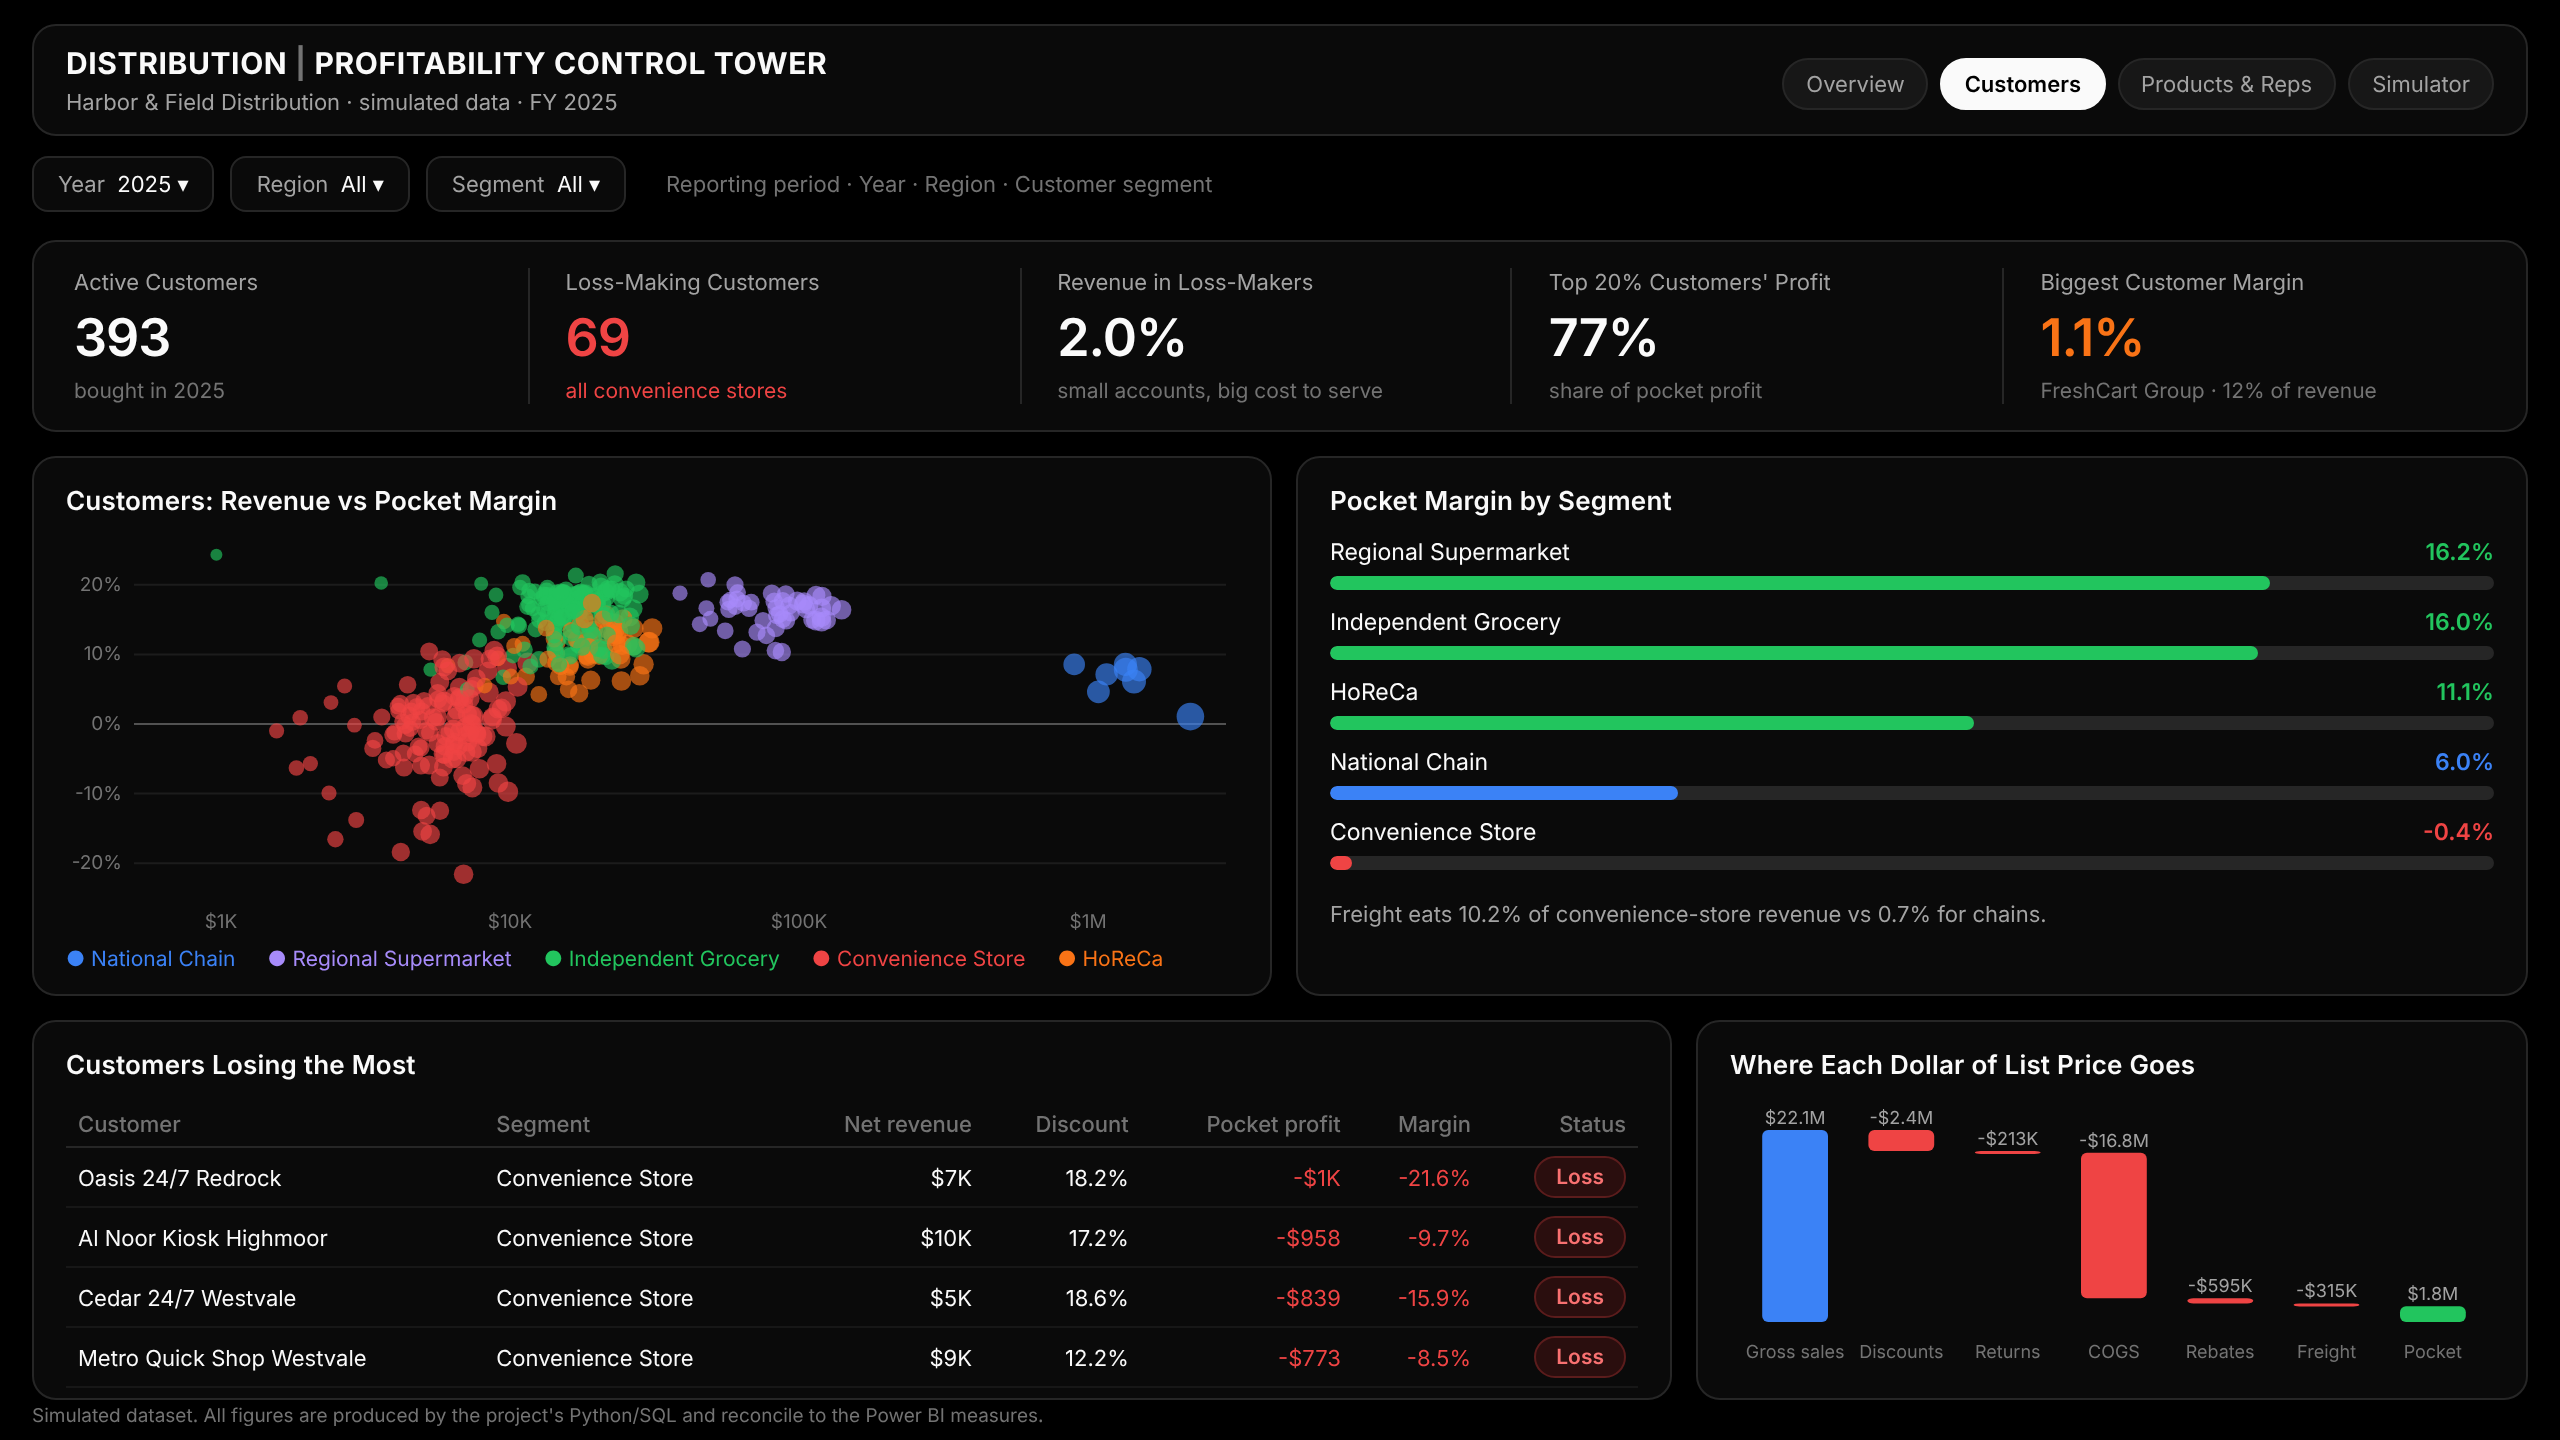

What the dashboard file says about the page in this screenshot:
{"tool":"powerbi","page":{"name":"Customers","canvas":[1280,720],"ordinal":1},"visuals":[{"type":"shape","box":[11.5,7.2,1252.6,91.8],"z":0,"group":"g1"},{"type":"shape","title":"Pocket Margin by Segment","box":[10,103.3,1252.6,120.5],"z":0},{"type":"cardVisual","fields":{"Data":["_Measures.Active Customers","_Measures.Loss-Making Customers","_Measures.Revenue in Loss-Making Customers %","_Measures.Top 20% Share of Pocket Profit","_Measures.Biggest Customer Pocket Margin"]},"box":[16,120,1248,98.8],"z":1000},{"type":"textbox","box":[23,21.3,522.6,30.1],"z":2000,"group":"g1"},{"type":"scatterChart","title":"Customers: Revenue vs Pocket Margin","fields":{"Category":["dim_customer.customer_name"],"Series":["dim_customer.segment"],"Size":["_Measures.Orders"],"X":["_Measures.Net Revenue"],"Y":["_Measures.Pocket Margin %"]},"box":[15.5,226.3,625.2,269.4],"z":2000},{"type":"cardVisual","fields":{"Data":["_Measures.Report Subtitle"]},"box":[60.4,58.9,521.8,24],"z":3000,"group":"g1"},{"type":"shape","title":"Pocket Margin by Segment","box":[648,228,616,270],"z":3000},{"type":"slicer","fields":{"Values":["dim_date.date.Variation.Date Hierarchy.Year"]},"box":[884,63.2,110.8,31.6],"z":4000,"group":"g1"},{"type":"tableEx","fields":{"Values":["dim_customer.segment","_Measures.SVG Segment Bar","_Measures.Pocket Margin %"]},"box":[650,233.9,605.5,266.9],"z":4000},{"type":"pageNavigator","box":[585.3,17.8,669.5,37.3],"z":5000,"group":"g1"},{"type":"textbox","box":[662.9,470.6,592.6,27.3],"z":5000},{"type":"slicer","fields":{"Values":["dim_customer.region"]},"box":[994.9,63.2,119.5,31.6],"z":6000,"group":"g1"},{"type":"tableEx","title":"Customers Losing the Most","fields":{"Values":["dim_customer.customer_name","dim_customer.segment","_Measures.Net Revenue","_Measures.Discount %","_Measures.Pocket Profit","_Measures.Pocket Margin %","_Measures.SVG Customer Pill"]},"box":[15.5,500.9,730.6,217.6],"z":6000},{"type":"slicer","fields":{"Values":["dim_customer.segment"]},"box":[1114.4,63.2,140.5,32],"z":7000,"group":"g1"},{"type":"waterfallChart","title":"Where Each Dollar of List Price Goes","fields":{"Category":["Waterfall Steps.Step"],"Y":["_Measures.Waterfall Value"]},"box":[753,500.9,511.2,219.4],"z":7000},{"type":"group","id":"g1","title":"Group 1","box":[11.5,7.2,1252.6,91.8],"z":8000},{"type":"textbox","box":[590.3,73.2,293.6,22.2],"z":8000,"group":"g1"}]}

Visuals, with their boxes in screenshot pixels (x1, y1, x2, y2), scaled from the page's 1280x720 canvas onto the 2560x1440 screenshot:
shape: crop(23, 14, 2528, 198)
"Pocket Margin by Segment" shape: crop(20, 207, 2525, 448)
cardVisual - _Measures.Active Customers x _Measures.Loss-Making Customers: crop(32, 240, 2528, 438)
textbox: crop(46, 43, 1091, 103)
"Customers: Revenue vs Pocket Margin" scatterChart: crop(31, 453, 1281, 991)
cardVisual - _Measures.Report Subtitle: crop(121, 118, 1164, 166)
"Pocket Margin by Segment" shape: crop(1296, 456, 2528, 996)
slicer - dim_date.date.Variation.Date Hierarchy.Year: crop(1768, 126, 1990, 190)
tableEx - dim_customer.segment x _Measures.SVG Segment Bar: crop(1300, 468, 2511, 1002)
pageNavigator: crop(1171, 36, 2510, 110)
textbox: crop(1326, 941, 2511, 996)
slicer - dim_customer.region: crop(1990, 126, 2229, 190)
"Customers Losing the Most" tableEx: crop(31, 1002, 1492, 1437)
slicer - dim_customer.segment: crop(2229, 126, 2510, 190)
"Where Each Dollar of List Price Goes" waterfallChart: crop(1506, 1002, 2528, 1439)
"Group 1" group: crop(23, 14, 2528, 198)
textbox: crop(1181, 146, 1768, 191)
